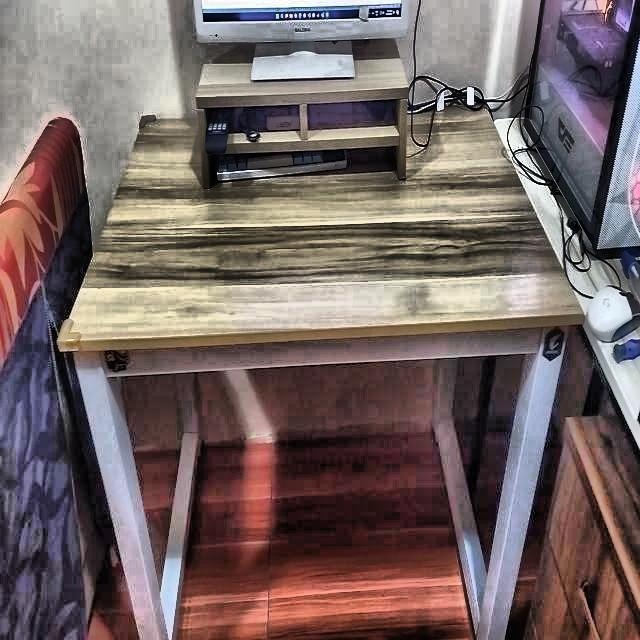mesa: (88, 114, 572, 640)
